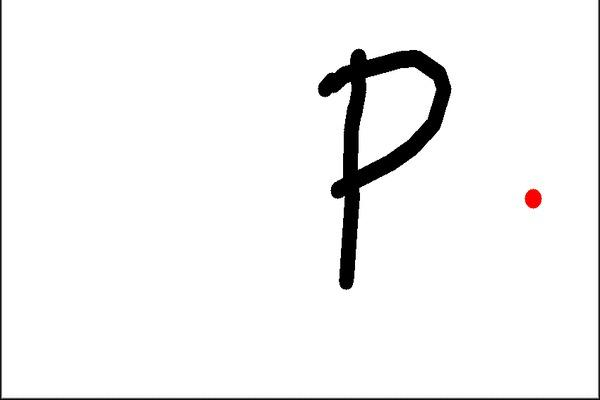P: (311, 43, 454, 304)
